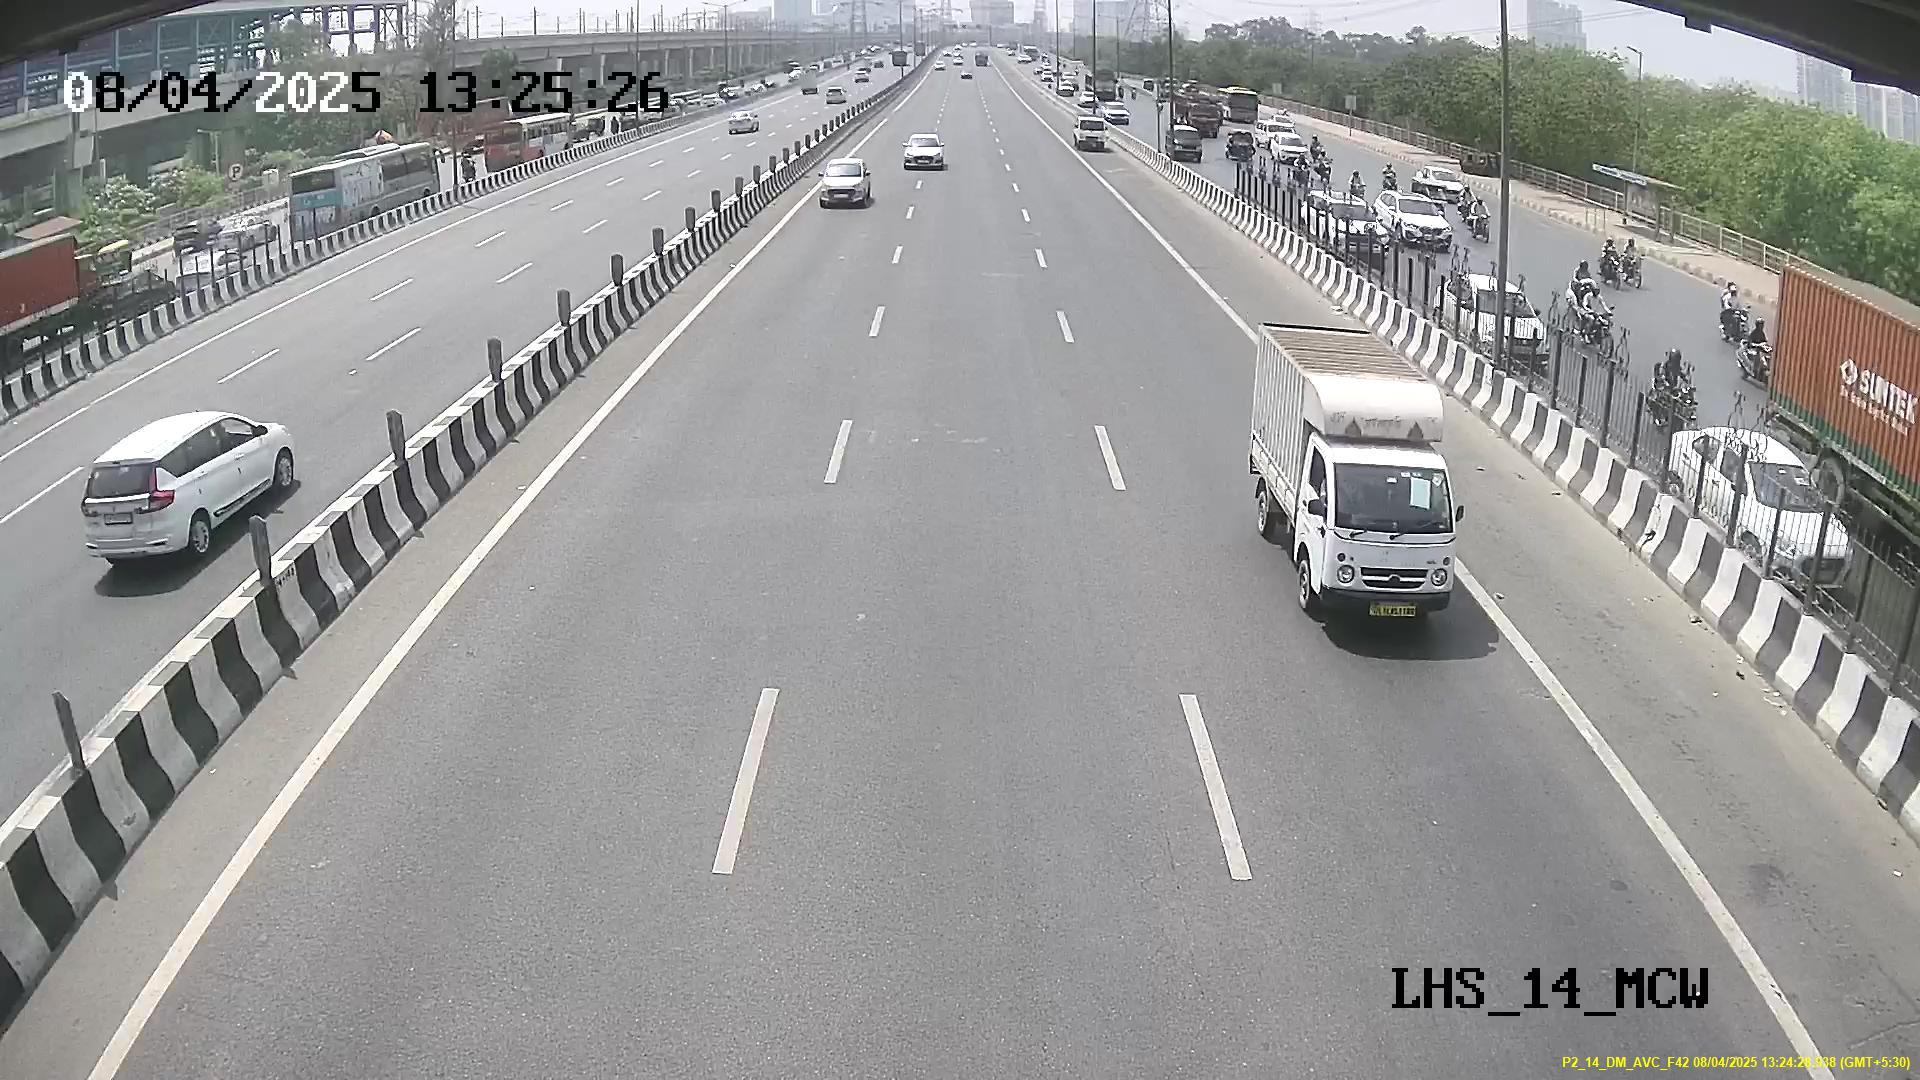car: (1296, 435, 1461, 629)
